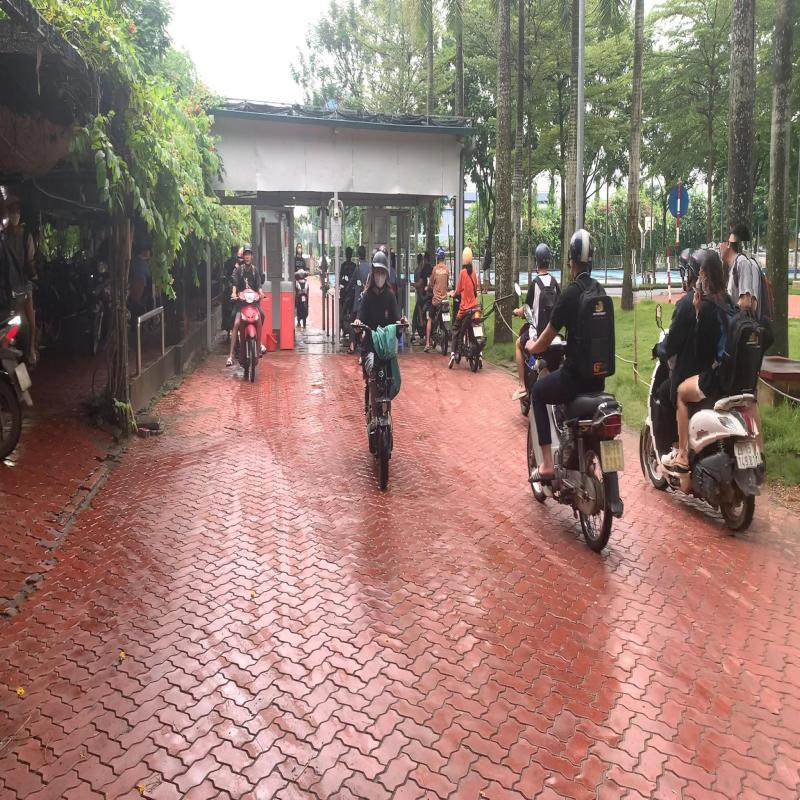helmet: (685, 247, 706, 288)
licenseplate: (734, 442, 757, 470)
motorcyclist: (634, 244, 765, 538)
nohelmet: (699, 248, 724, 294)
